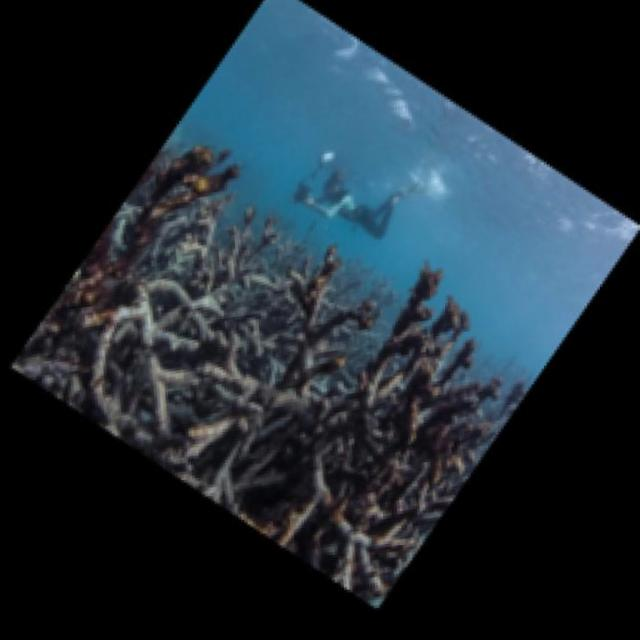Dead Coral: (234, 291, 537, 534), (16, 165, 286, 373)
